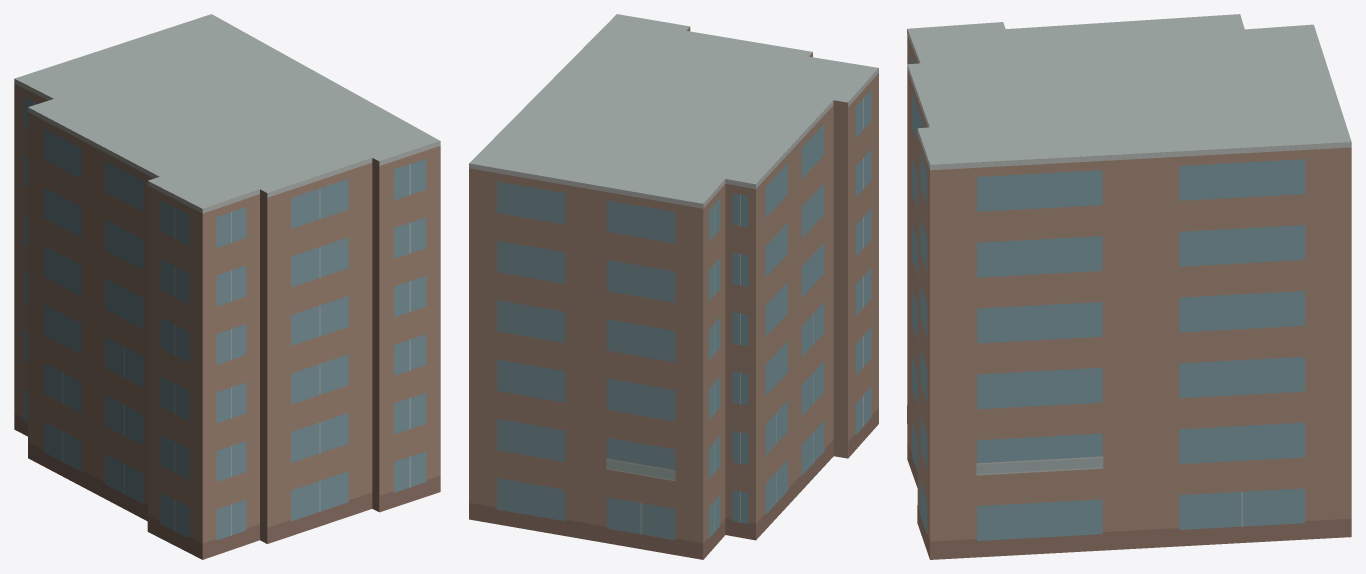
File: survey-upis-32716988.glb
The picture shows the model from 3 angles, left to right: view 1: azimuth 30°, elevation 25°; view 2: azimuth 150°, elevation 25°; view 3: azimuth 270°, elevation 25°; orthographic projection. The views are drawn at different scales.
Parts seen in each view (by area): view 1: survey-upis-32716988.tmp; view 2: survey-upis-32716988.tmp; view 3: survey-upis-32716988.tmp.
Boxes of the visible parts, <box> form: survey-upis-32716988.tmp: <box>14,14,440,559</box>; survey-upis-32716988.tmp: <box>469,14,878,559</box>; survey-upis-32716988.tmp: <box>907,14,1351,559</box>.
Bounding box in the file's own units: 14.68 × 17.9 × 18.27.
